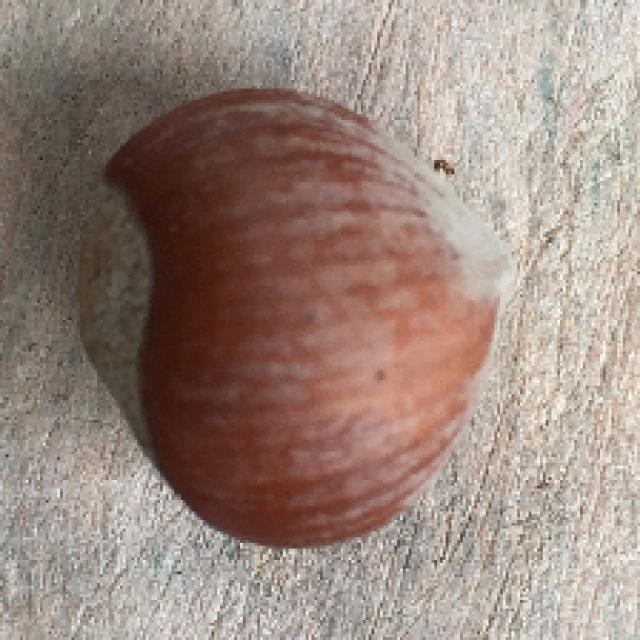qualityHazelnut: (66, 82, 516, 550)
